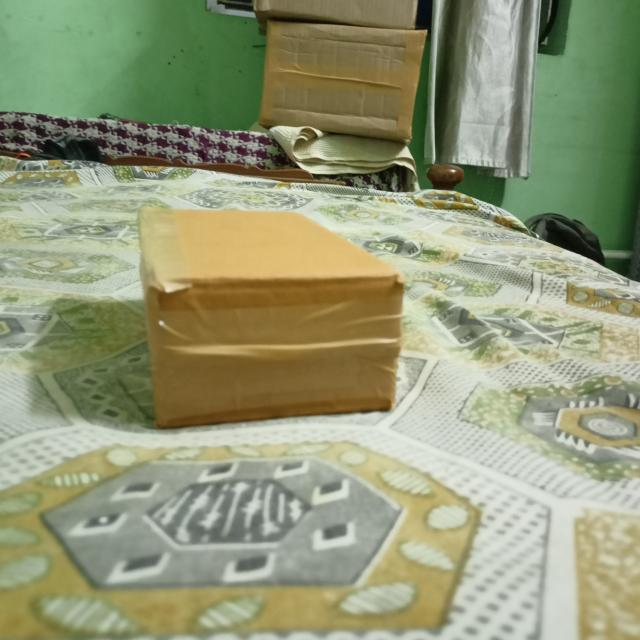box: (156, 277, 404, 431)
